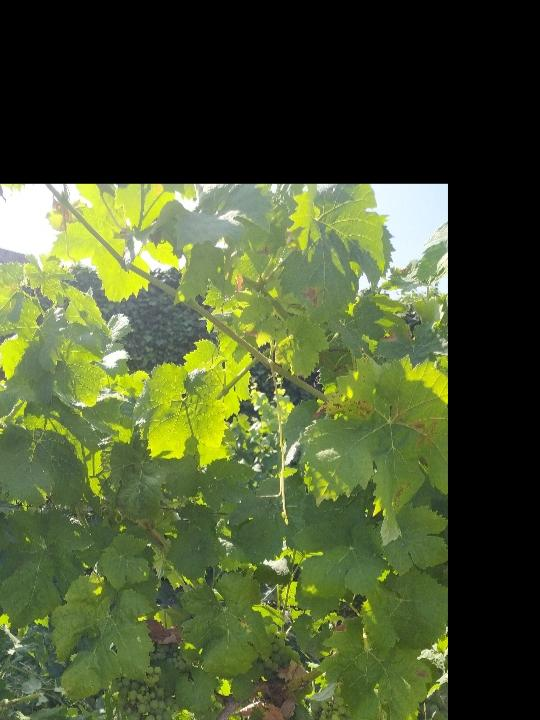grape: (110, 664, 183, 720), (304, 689, 355, 720)
